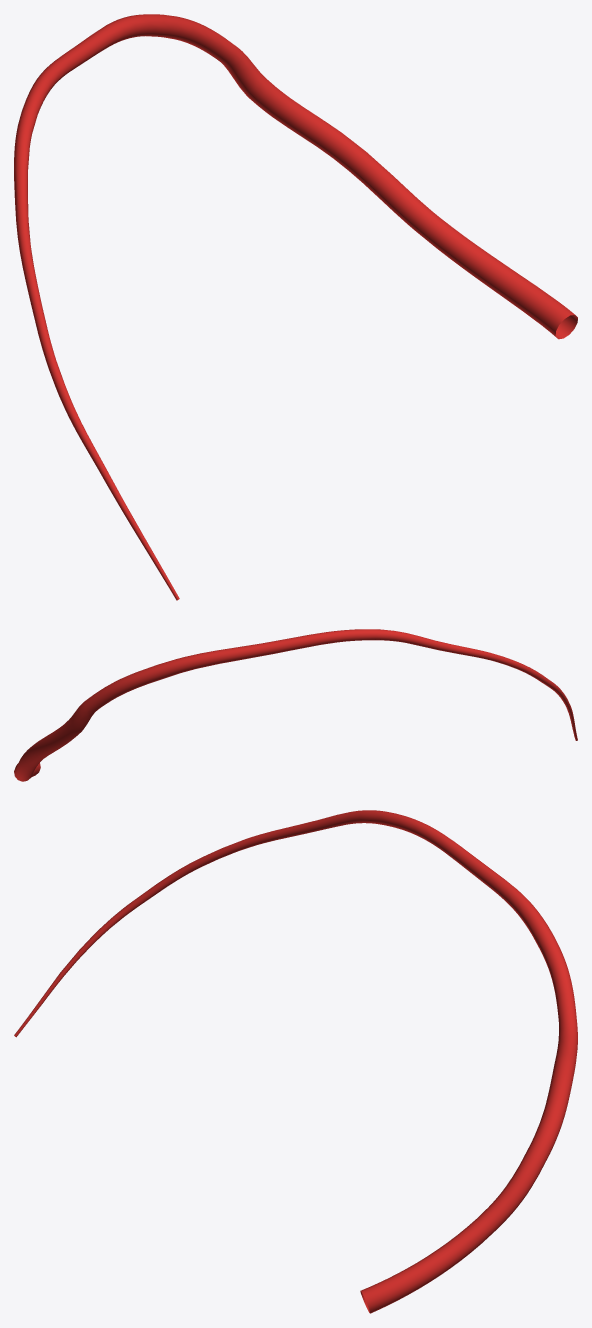
File: circulatorio-iliolumbar-vein-r.glb
The picture shows the model from 3 angles, top to bottom: view 1: azimuth 30°, elevation 25°; view 2: azimuth 150°, elevation 25°; view 3: azimuth 270°, elevation 25°; orthographic projection. The views are drawn at different scales.
Visible parts, largest first — view 1: Iliolumbar vein.r; view 2: Iliolumbar vein.r; view 3: Iliolumbar vein.r.
Boxes of the visible parts, x1,y1,x2,y2 form: Iliolumbar vein.r: [14, 14, 577, 600]; Iliolumbar vein.r: [14, 629, 577, 781]; Iliolumbar vein.r: [14, 810, 577, 1313].
Size of the model in its own units: 0.0992 by 0.052 by 0.0904.
